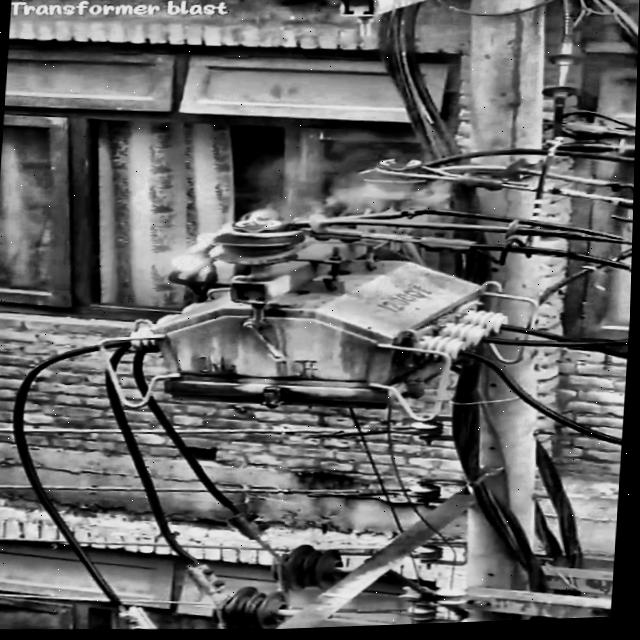Fire: (152, 224, 241, 284)
